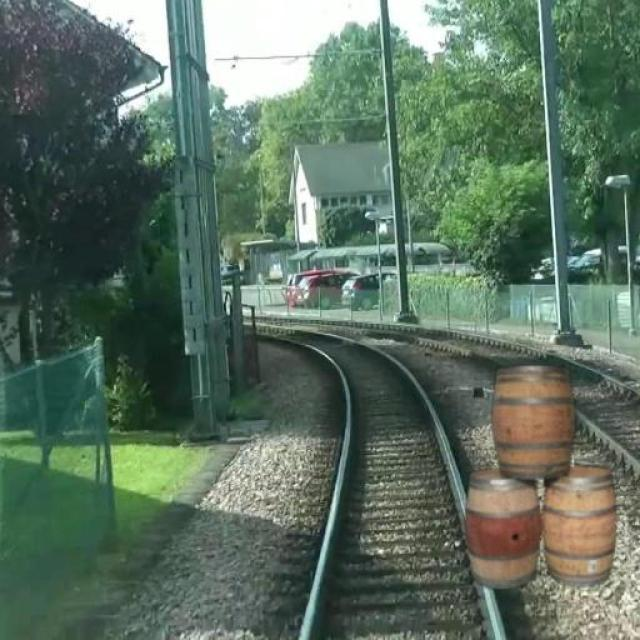Other_objects: (482, 356, 582, 477), (459, 464, 551, 592), (547, 455, 618, 590)
